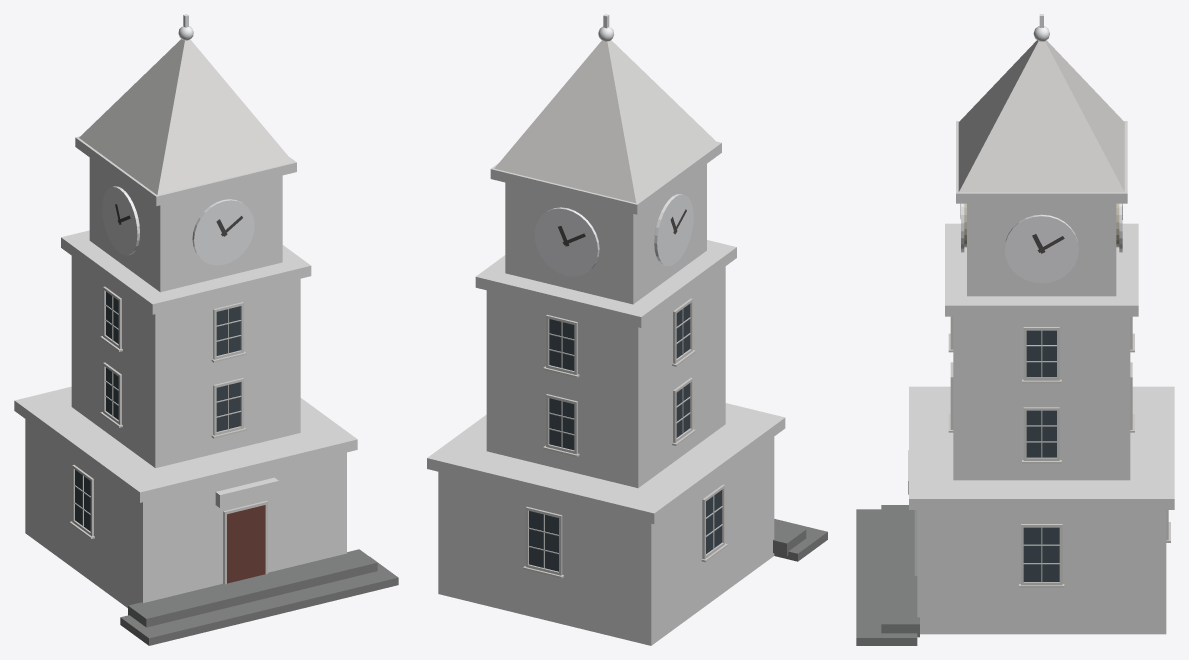
Rendered from city_clocktower.fbx.
3 renders of one model, left to right at view 1: azimuth 30°, elevation 25°; view 2: azimuth 150°, elevation 25°; view 3: azimuth 270°, elevation 25°, orthographic. The views are drawn at different scales.
Visible parts, largest first — view 1: brickpale_1, brick_1, trim_1, concrete_1, chrome_1, glass_1, door_1; view 2: brickpale_1, brick_1, trim_1, glass_1, chrome_1, concrete_1; view 3: brickpale_1, brick_1, trim_1, concrete_1, glass_1, chrome_1.
Part boxes in pixels (<box>): brickpale_1: <box>14,136,357,607</box>; brick_1: <box>71,158,300,468</box>; trim_1: <box>69,39,292,584</box>; concrete_1: <box>120,549,398,645</box>; chrome_1: <box>102,14,254,265</box>; glass_1: <box>75,292,240,531</box>; door_1: <box>227,505,265,583</box>; brickpale_1: <box>427,141,785,645</box>; brick_1: <box>486,164,725,487</box>; trim_1: <box>494,40,727,578</box>; glass_1: <box>529,304,721,571</box>; chrome_1: <box>534,14,693,276</box>; concrete_1: <box>773,519,827,561</box>; brickpale_1: <box>908,121,1174,634</box>; brick_1: <box>953,203,1130,480</box>; trim_1: <box>914,40,1170,587</box>; concrete_1: <box>856,505,919,645</box>; glass_1: <box>1023,330,1059,581</box>; chrome_1: <box>961,14,1122,283</box>.
Size of the model in its own units: 1.1 by 2.26 by 1.15.
